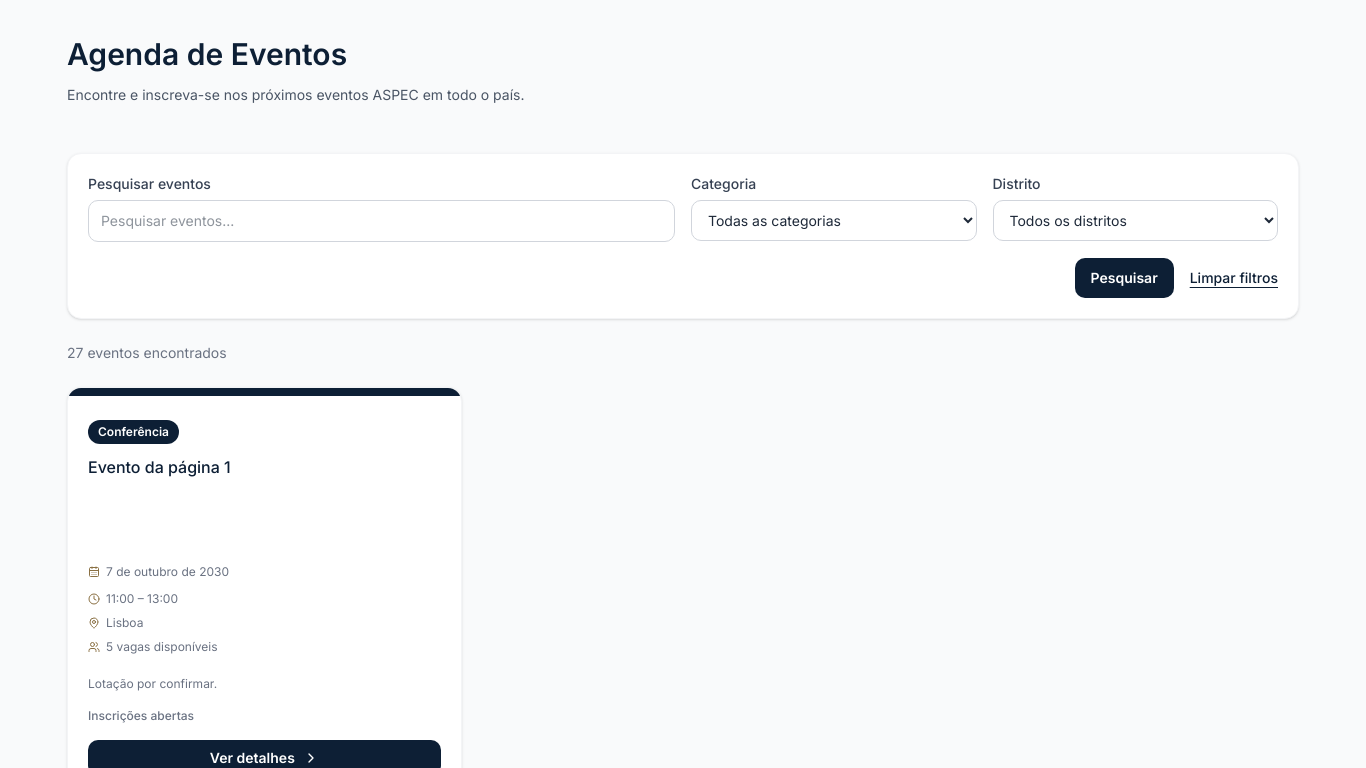
Test: EventsPage › limpa os dois filtros sem manter a página anterior
Expected: the heading "Evento da página 1" is shown, x1=88 y1=457 x2=231 y2=477
Select "Conferência" in the dropdown labelled "Categoria" at x=834, y=220, box x1=691 y1=200 x2=976 y2=241
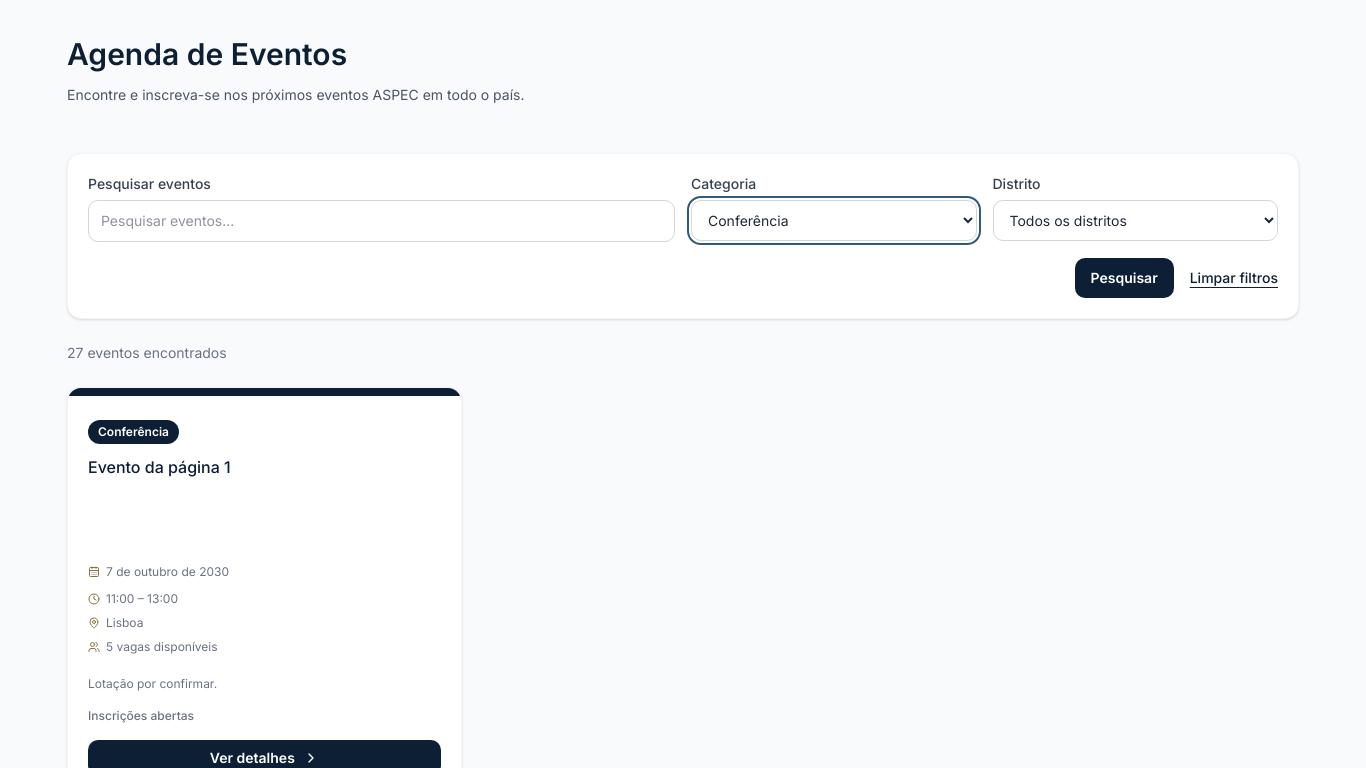
Expected: the heading "Evento da página 1" is shown, x1=88 y1=457 x2=231 y2=477
Select "Porto" in the dropdown labelled "Distrito" at x=1135, y=220, box x1=992 y1=200 x2=1278 y2=241
(page scrolled)
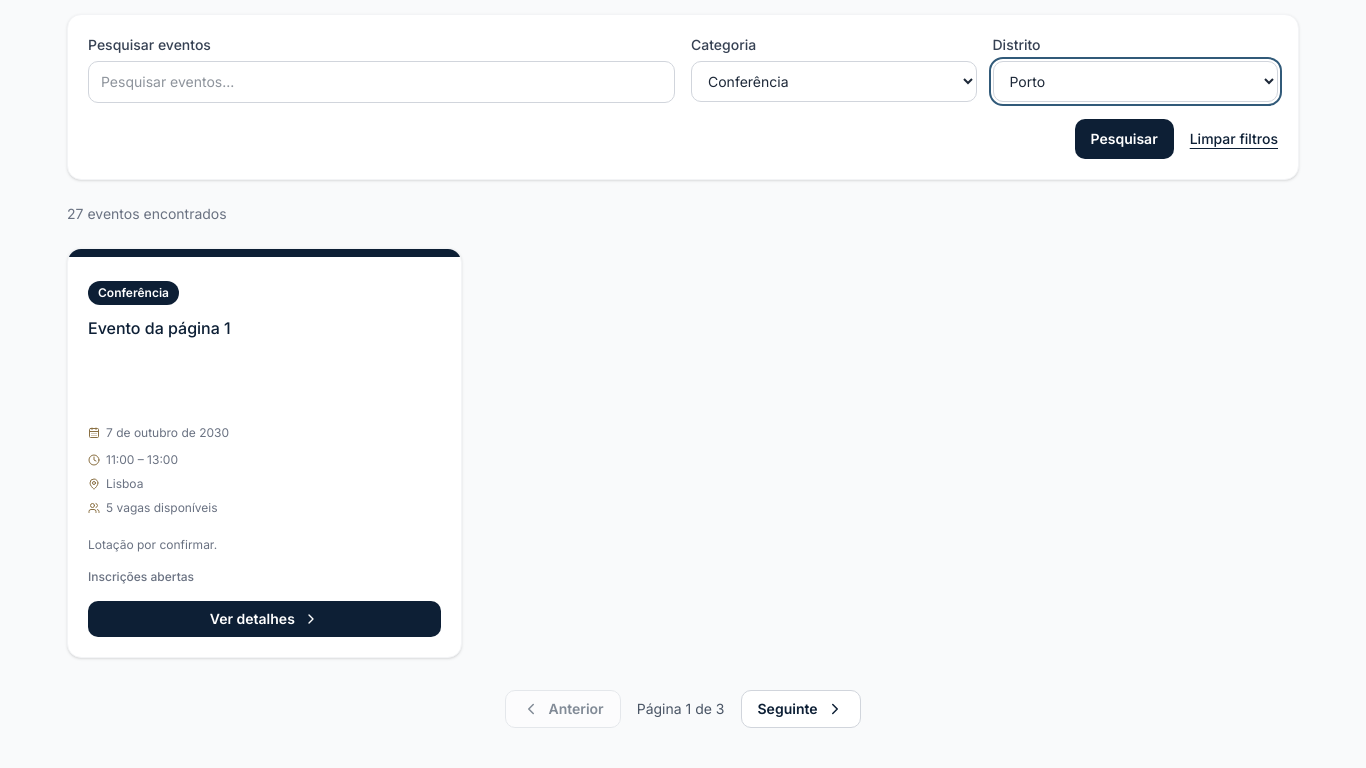
Expected: the heading "Evento da página 1" is shown, x1=88 y1=318 x2=231 y2=338
Click the button "Seguinte" at x=800, y=709, box x1=740 y1=690 x2=860 y2=728
(page scrolled)
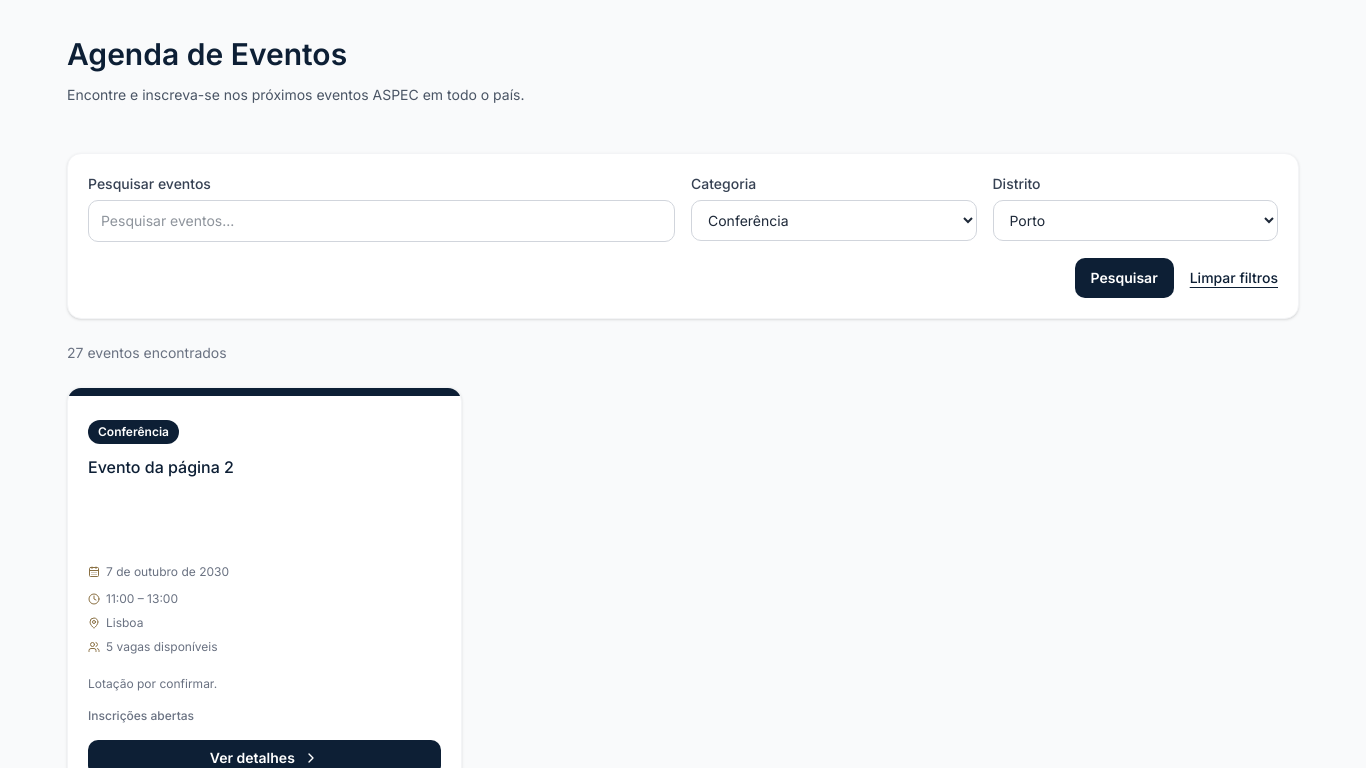
Click the button "Limpar filtros" at x=1234, y=278, box x1=1190 y1=268 x2=1278 y2=288
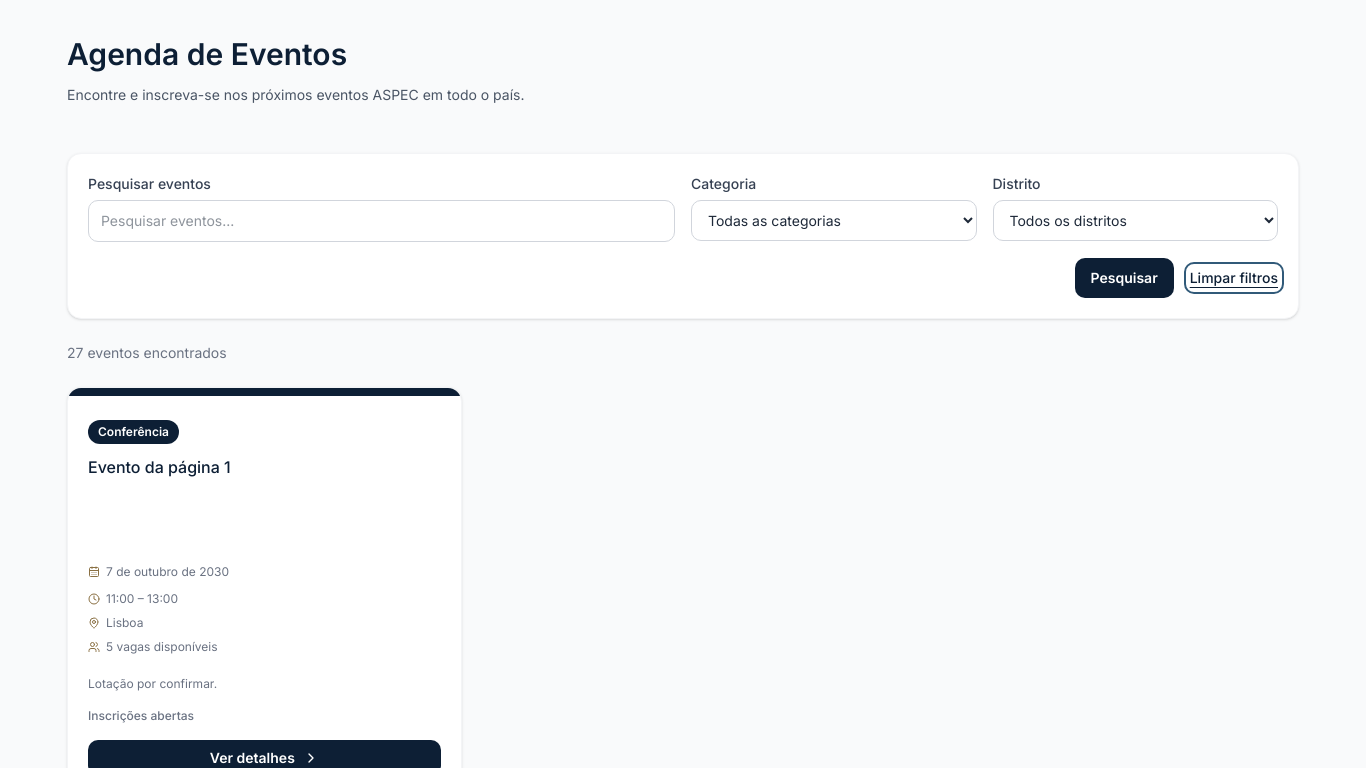
Expected: the heading "Evento da página 1" is shown, x1=88 y1=457 x2=231 y2=477
